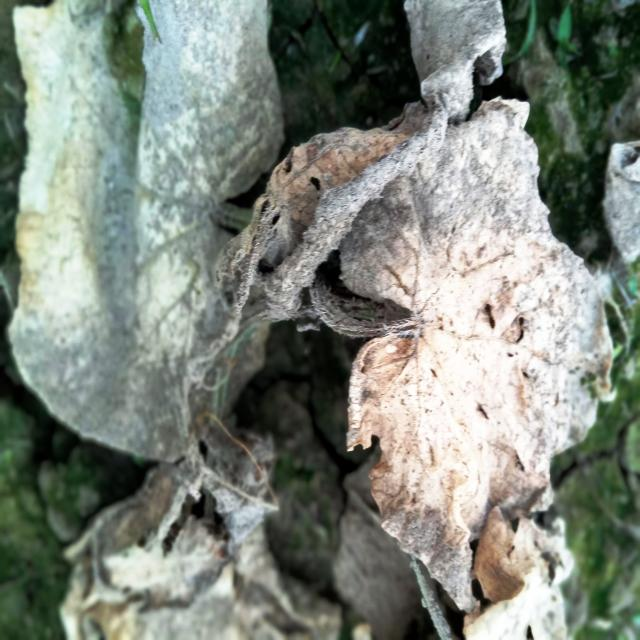Bacterial-Wilt: (330, 93, 622, 619), (217, 0, 507, 327)
